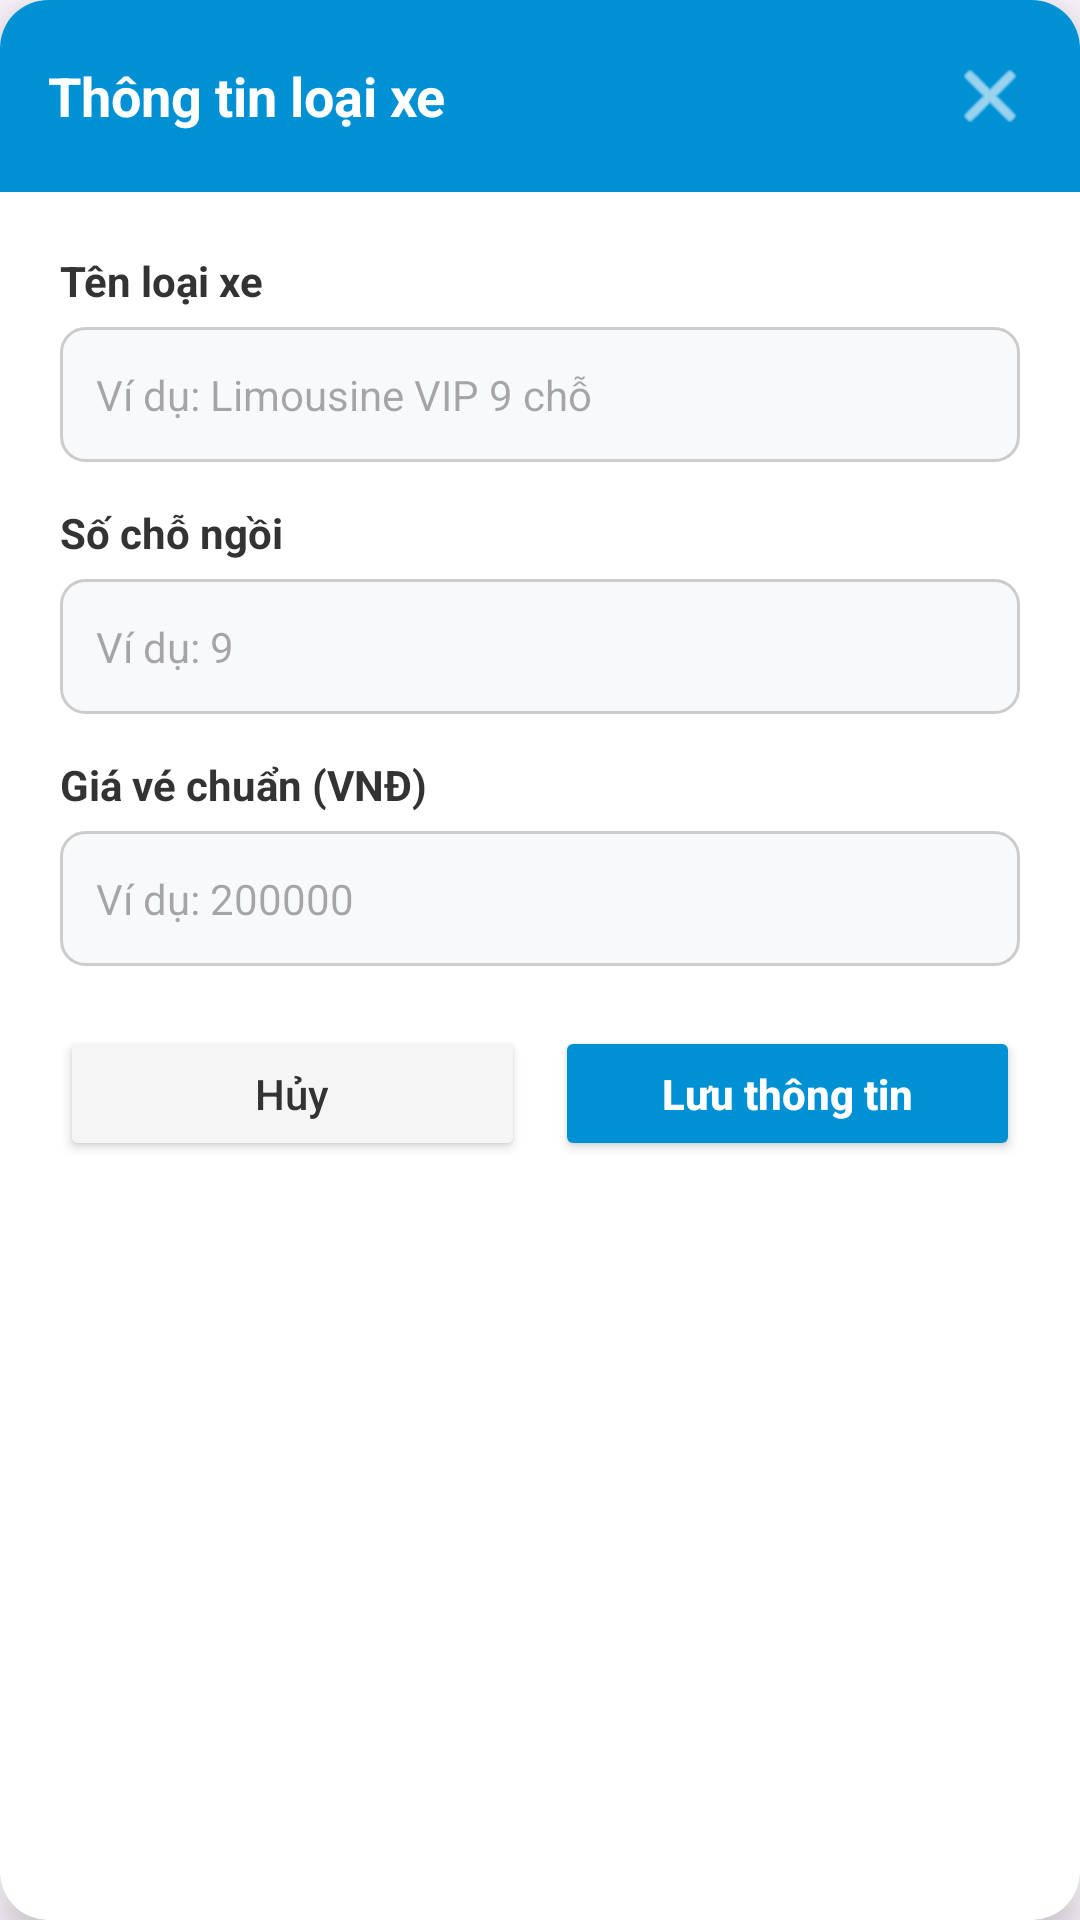

Named icons in this screenshot (1080x1920) and their centers, [x,y]:
close clear cancel: [990,96]
